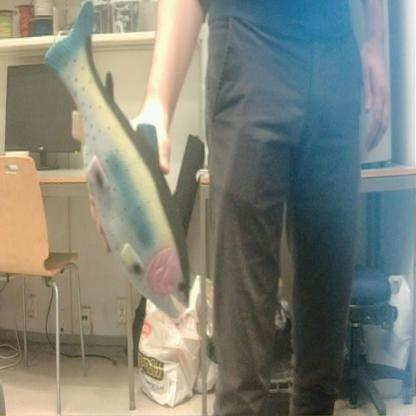rubberfish: (41, 1, 192, 321)
